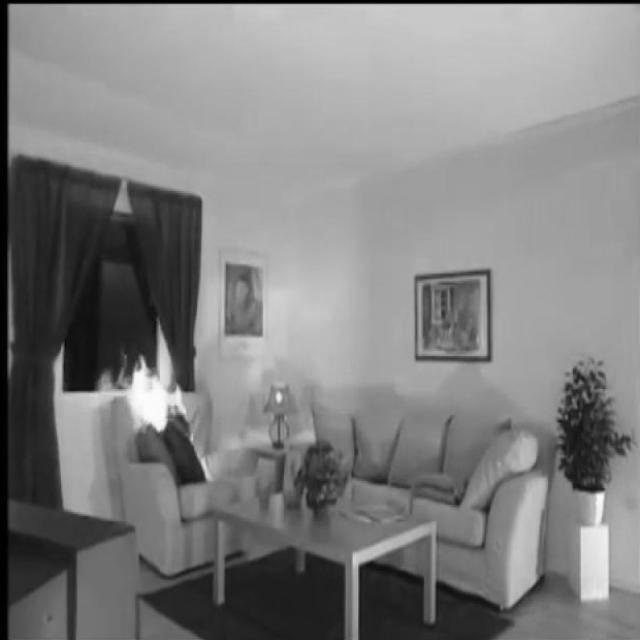smoke: (95, 342, 178, 445)
